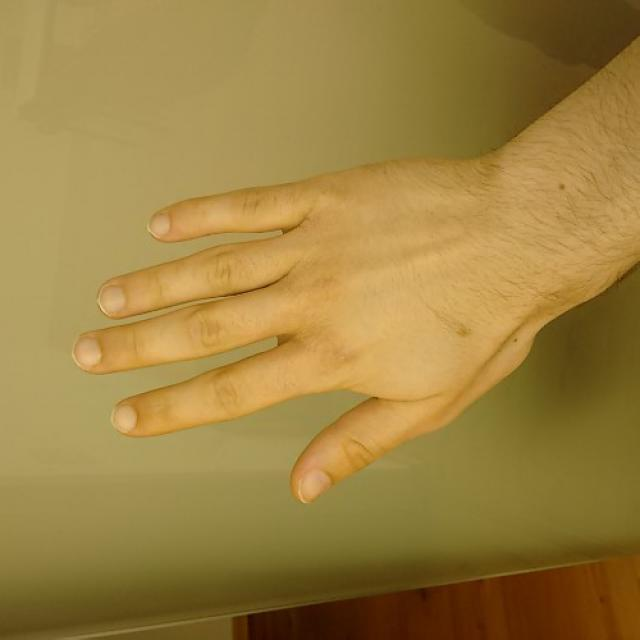paper: (71, 157, 506, 506)
